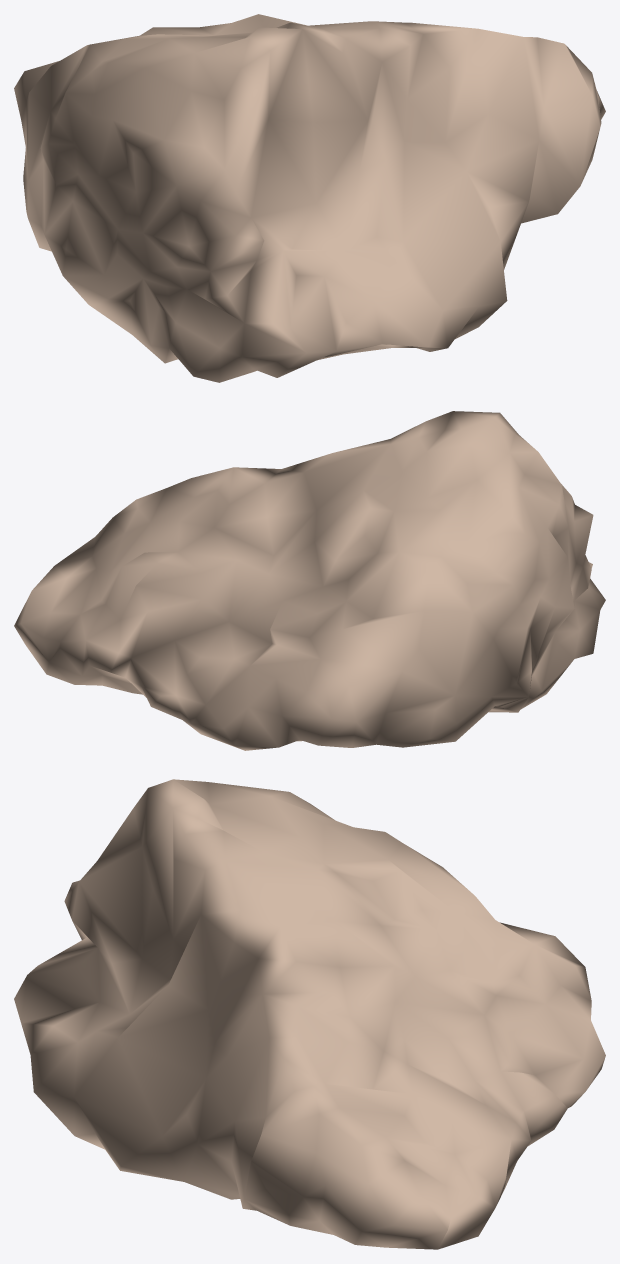
The model's file is rk_stones_1.glb.
3 views of the same model, one above another, from view 1: azimuth 30°, elevation 25°; view 2: azimuth 150°, elevation 25°; view 3: azimuth 270°, elevation 25° (orthographic). The views are drawn at different scales.
Visible parts, largest first — view 1: namaqualand_stones_01_a; view 2: namaqualand_stones_01_a; view 3: namaqualand_stones_01_a.
Part boxes in pixels (x1,y1,x2,y2): namaqualand_stones_01_a: (14, 14, 605, 382); namaqualand_stones_01_a: (14, 411, 605, 750); namaqualand_stones_01_a: (14, 779, 605, 1249).
Bounding box in the file's own units: 1 × 0.5414 × 0.9482.
